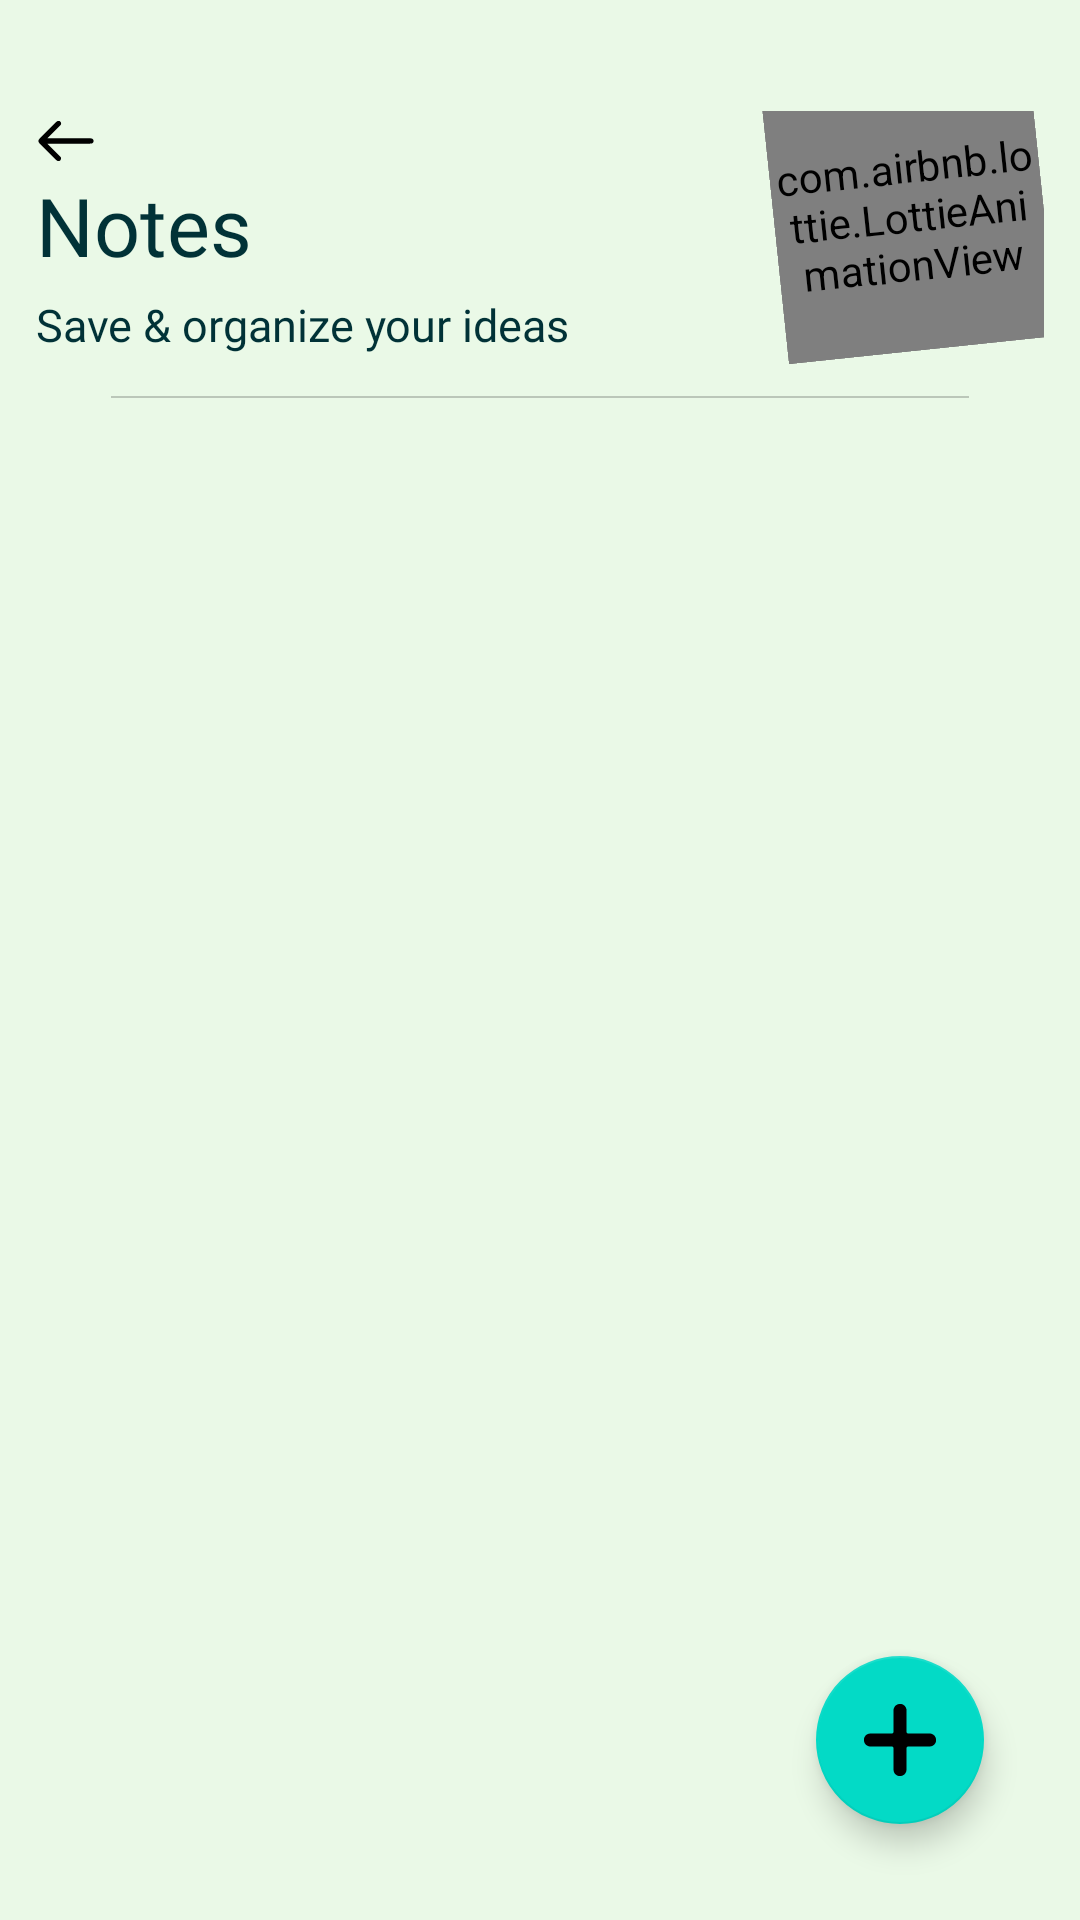

Where icons sit on this 1080*1920 app screen, as rect(x1, y1, x2, y2):
add: rect(816, 1656, 984, 1824)
Back: rect(38, 121, 94, 161)
